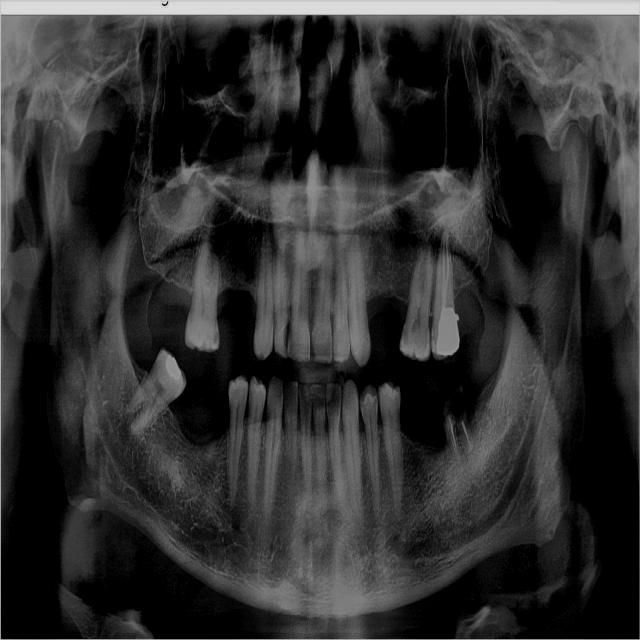Caries: (281, 319, 288, 349), (211, 323, 219, 347), (310, 335, 318, 359), (287, 321, 293, 349), (373, 396, 378, 409), (431, 331, 434, 346)
Filling: (436, 305, 459, 358), (166, 353, 181, 379)
Missing teeth: (166, 387, 233, 448), (396, 395, 449, 455), (216, 284, 261, 351), (365, 289, 409, 356)
Periapical lesion: (109, 412, 131, 442)
Root Canal Treatment: (445, 233, 449, 305), (442, 240, 446, 307), (443, 236, 445, 279)
Root Piece: (452, 385, 474, 456), (444, 397, 463, 456)
